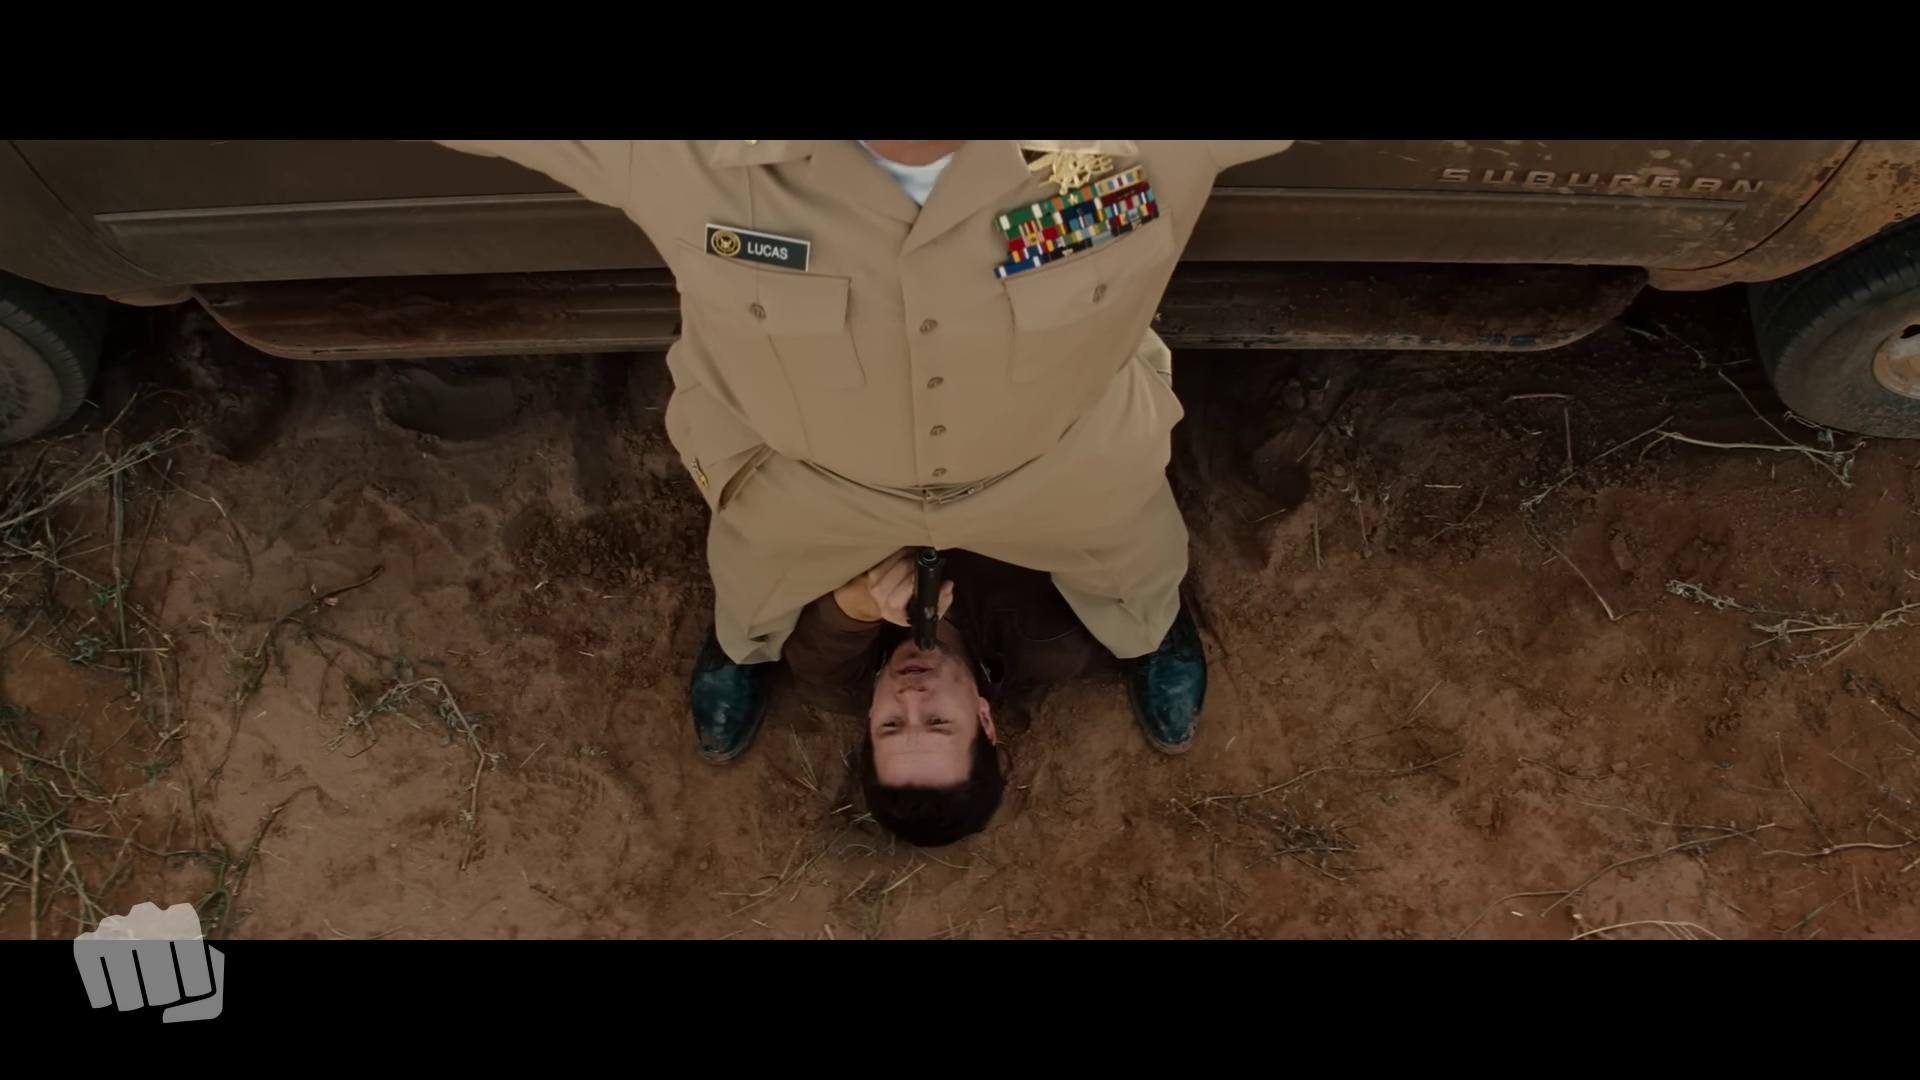gun: (909, 545, 948, 654)
p_w_gun: (777, 530, 1106, 844)
p_wo_gun_not_carrying_normal_pose: (439, 138, 1300, 770)
